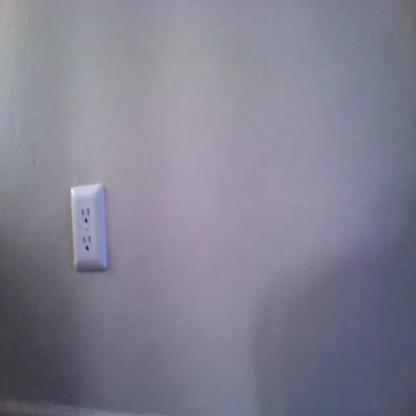OUTLET: (71, 183, 109, 272)
